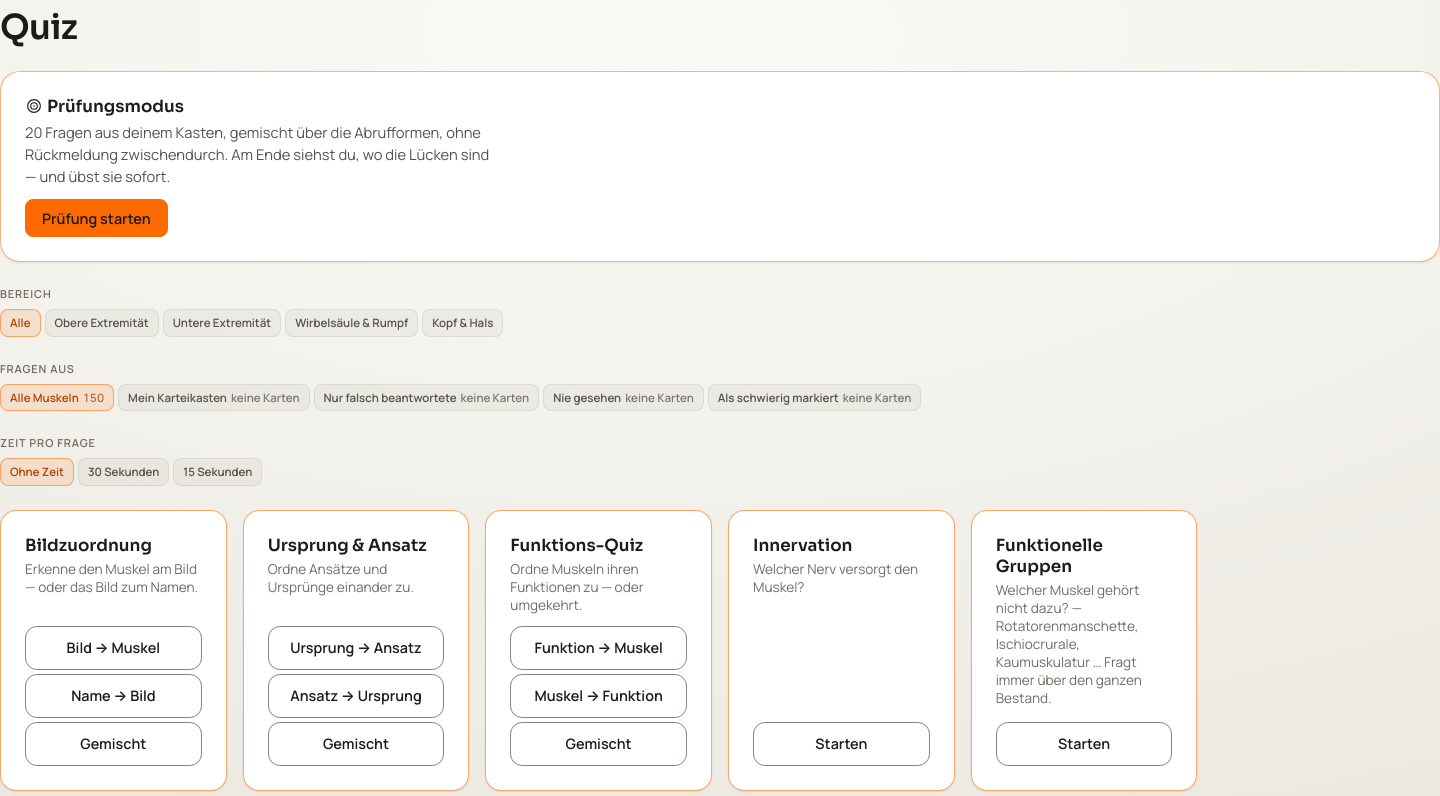
Zeitdruck im Quiz (Etappe 11) › die Uhr feuert GENAU EINMAL — kein zweites „falsch" durch einen Nachzügler-Tick
Click the button "15 Sekunden" at (218, 472), box [173,458,262,486]
(page scrolled)
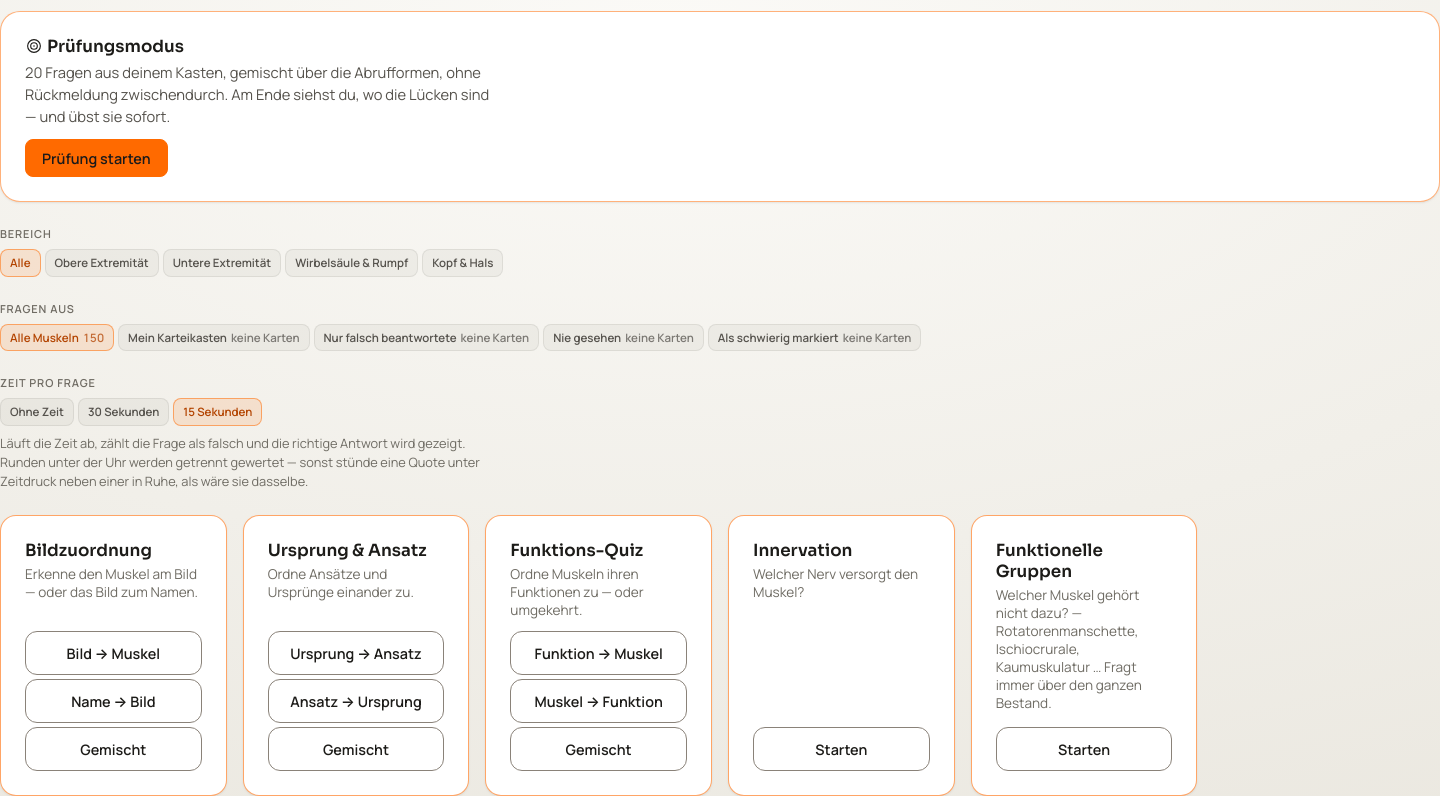
Click the button "Starten" below "Funktionelle Gruppen" at (1084, 749), box [996,727,1172,771]
Wait 60000 ms
(page scrolled)
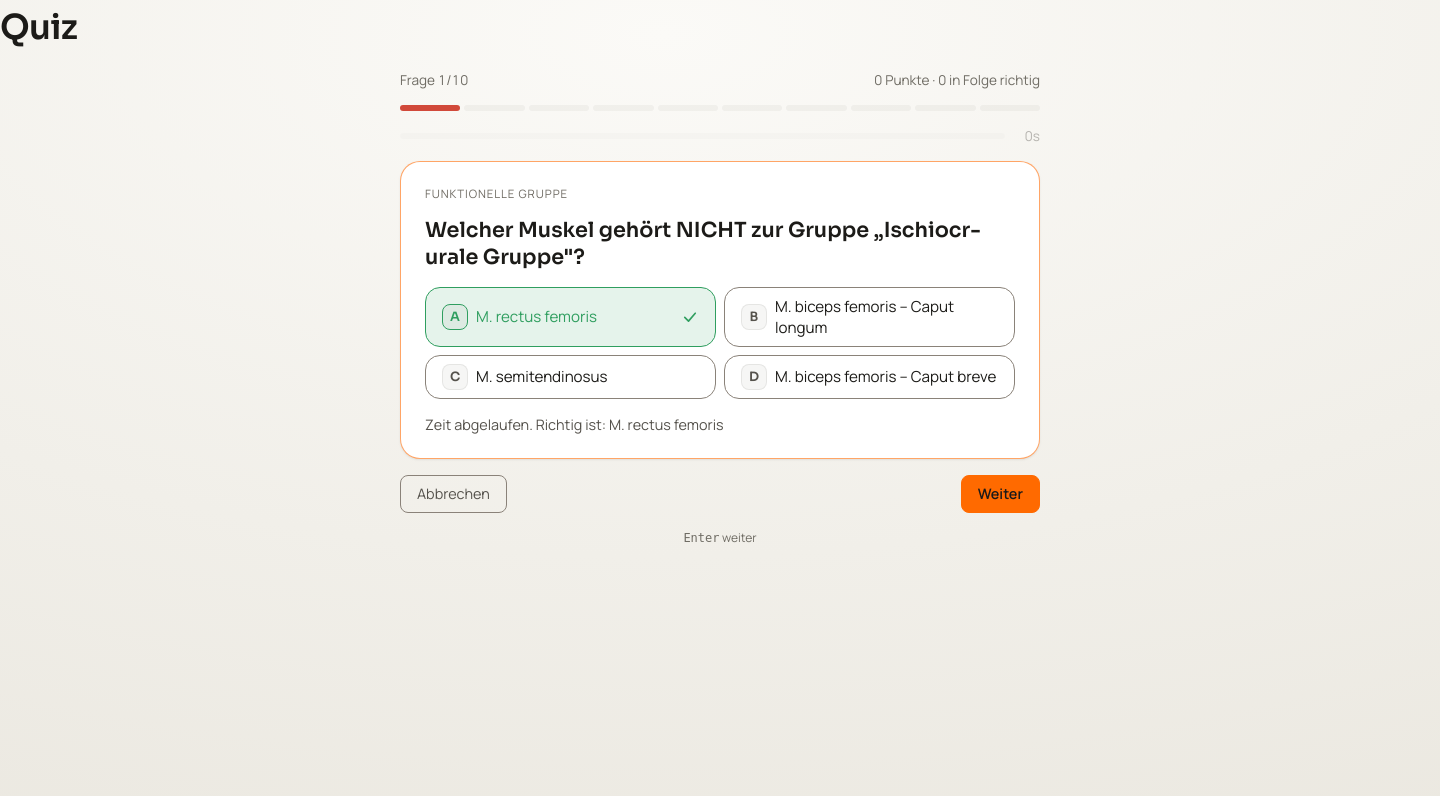
Expected: the text "Frage 1/10" is shown, [400,71,468,89]
